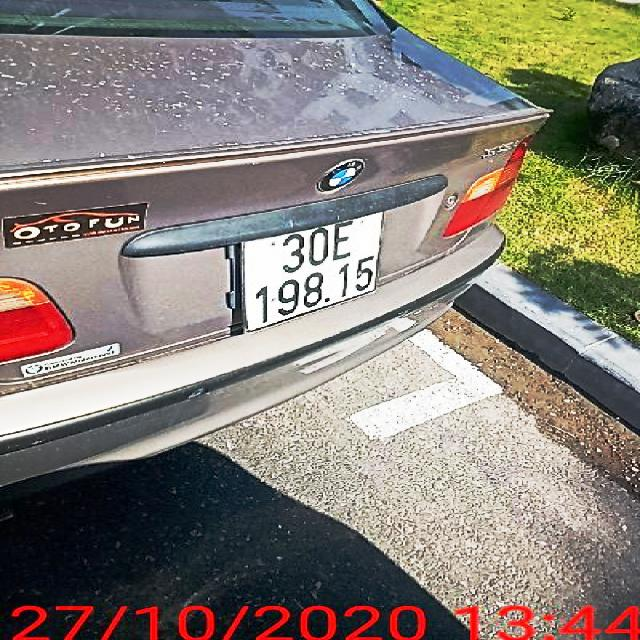license_plate: (231, 211, 383, 335)
